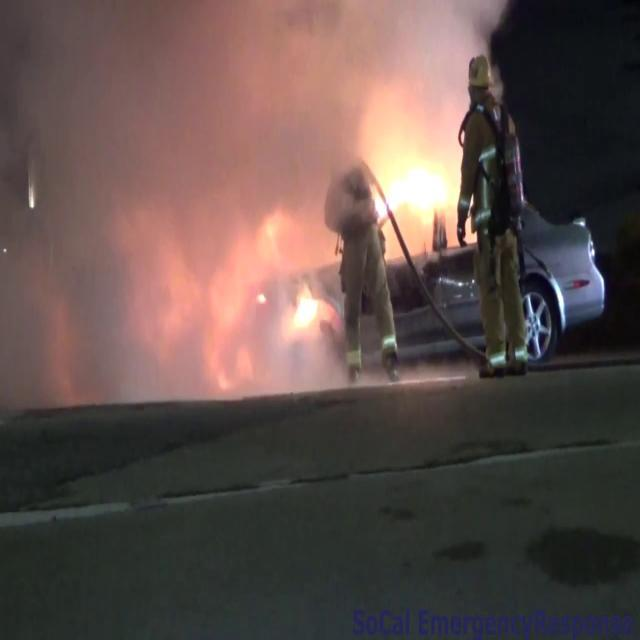Fire: (367, 137, 461, 241), (285, 279, 331, 342)
Smoke: (0, 1, 339, 416)
